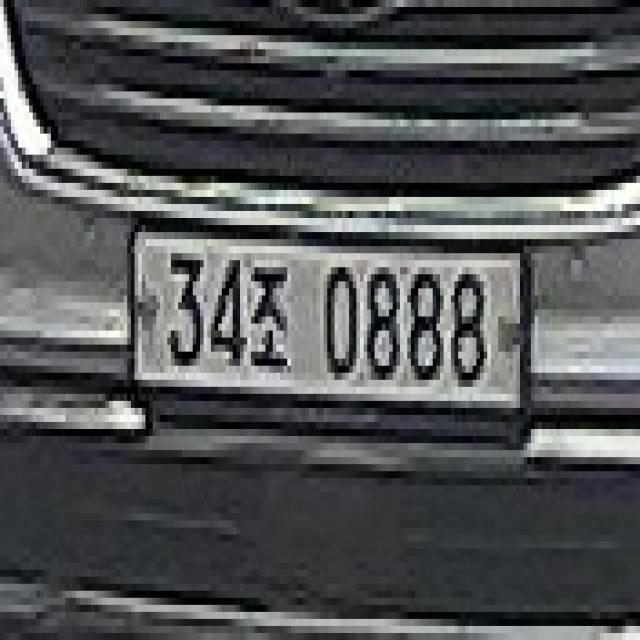0: (320, 253, 360, 387)
3: (167, 246, 204, 373)
4: (207, 253, 244, 366)
8: (404, 260, 444, 387), (448, 260, 488, 387), (364, 253, 400, 380)
jo: (247, 260, 291, 373)
license_plate: (127, 211, 531, 429)
